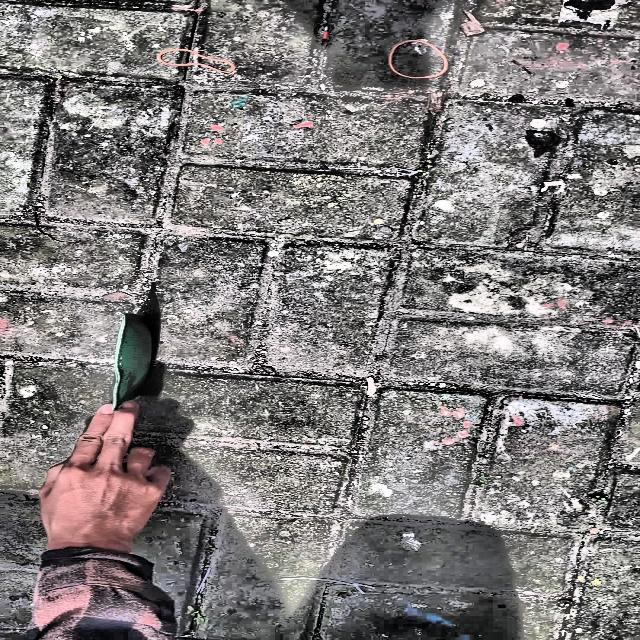payload: (112, 314, 151, 409)
